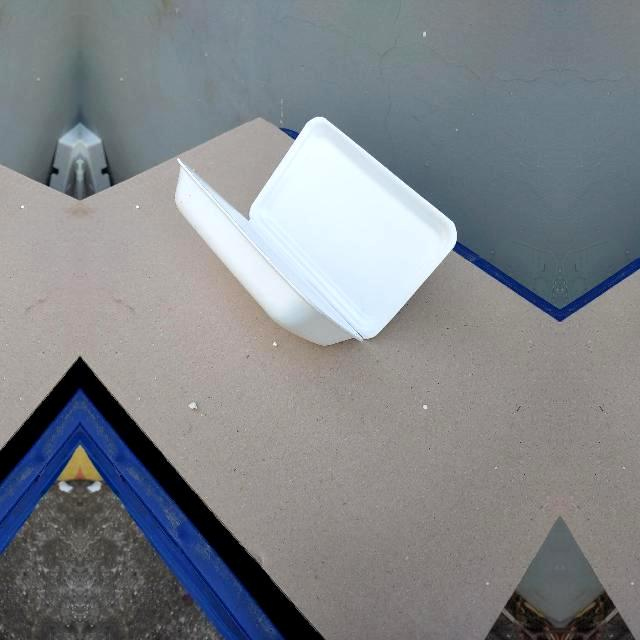Styrofoam: (170, 114, 460, 348), (175, 116, 457, 345)
